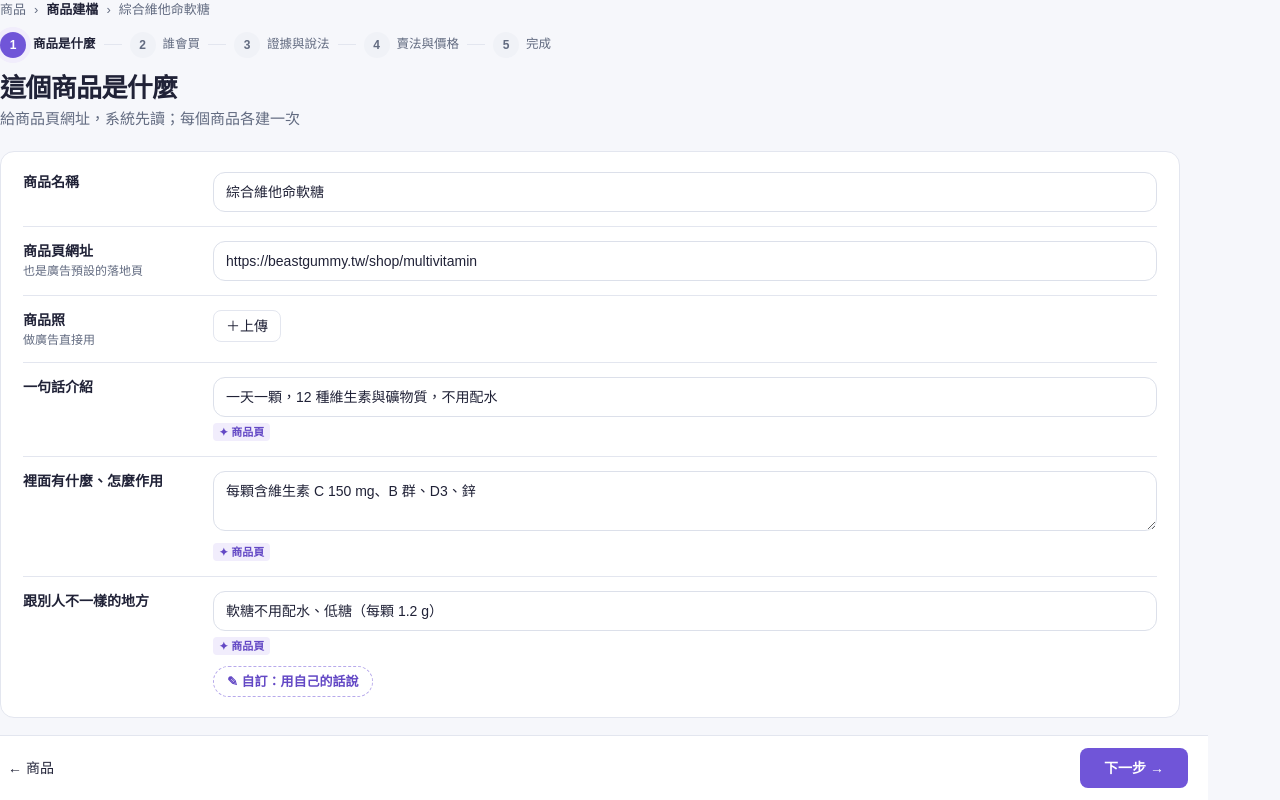
ProductOnboarding › 第 1 步存好後重讀狀態，再打開第 2 步
Step 1. Click the button "下一步 →" → click(1134, 768), box left=1080, top=748, right=1188, bottom=788
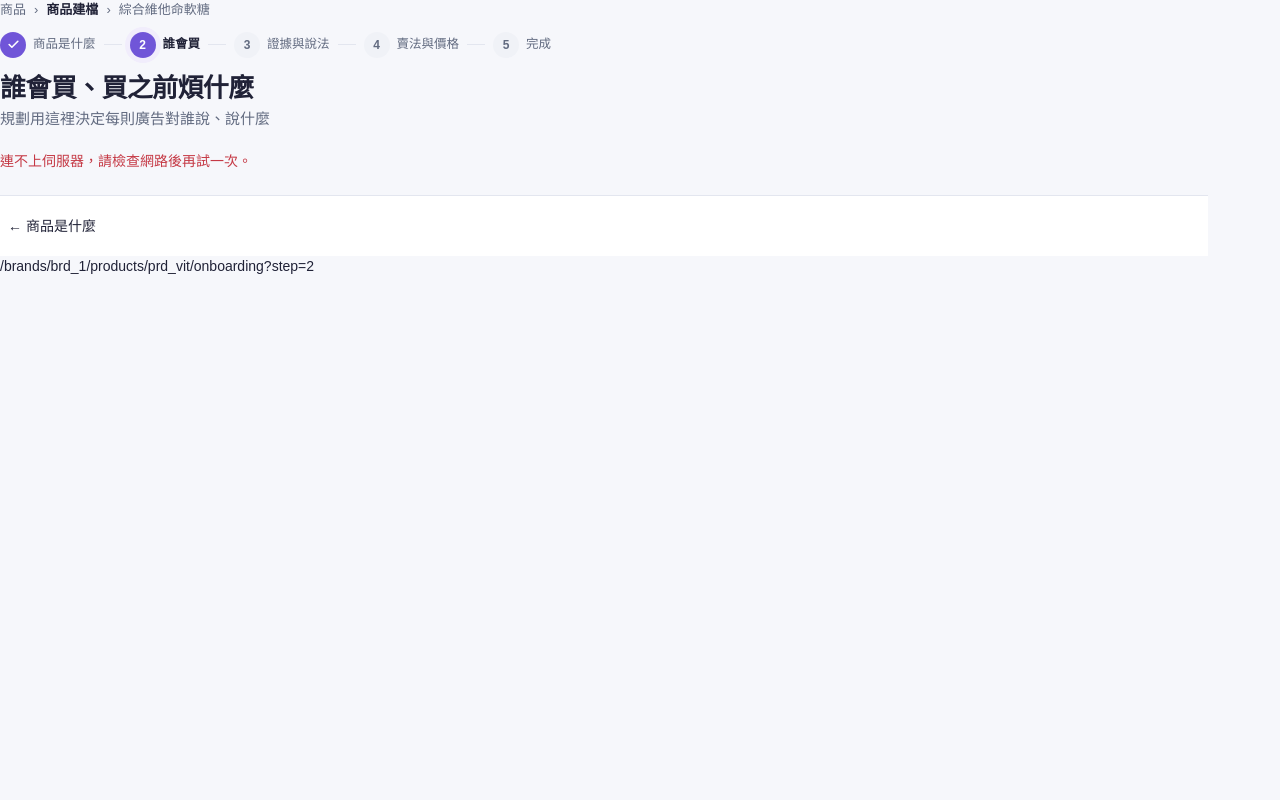
Check: the heading reads "誰會買、買之前煩什麼", box left=0, top=72, right=254, bottom=102
